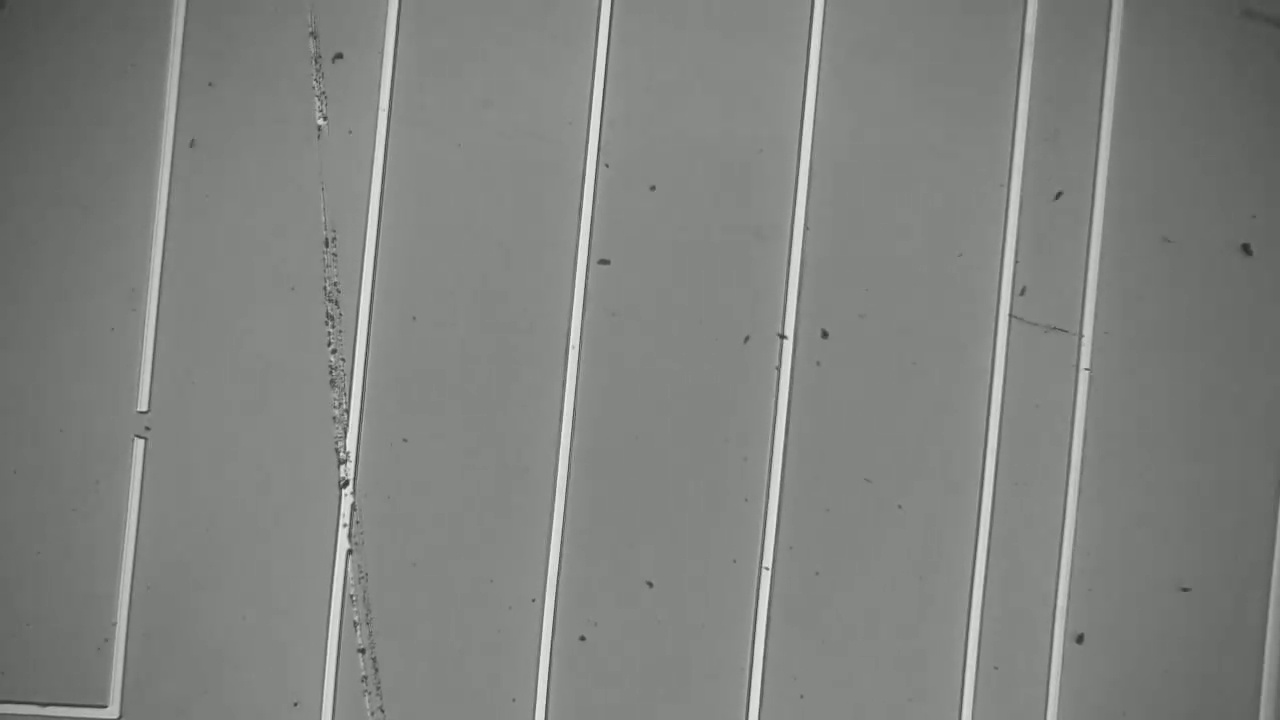open: (118, 381, 170, 461)
scratch: (309, 6, 393, 716), (1013, 301, 1075, 342)
